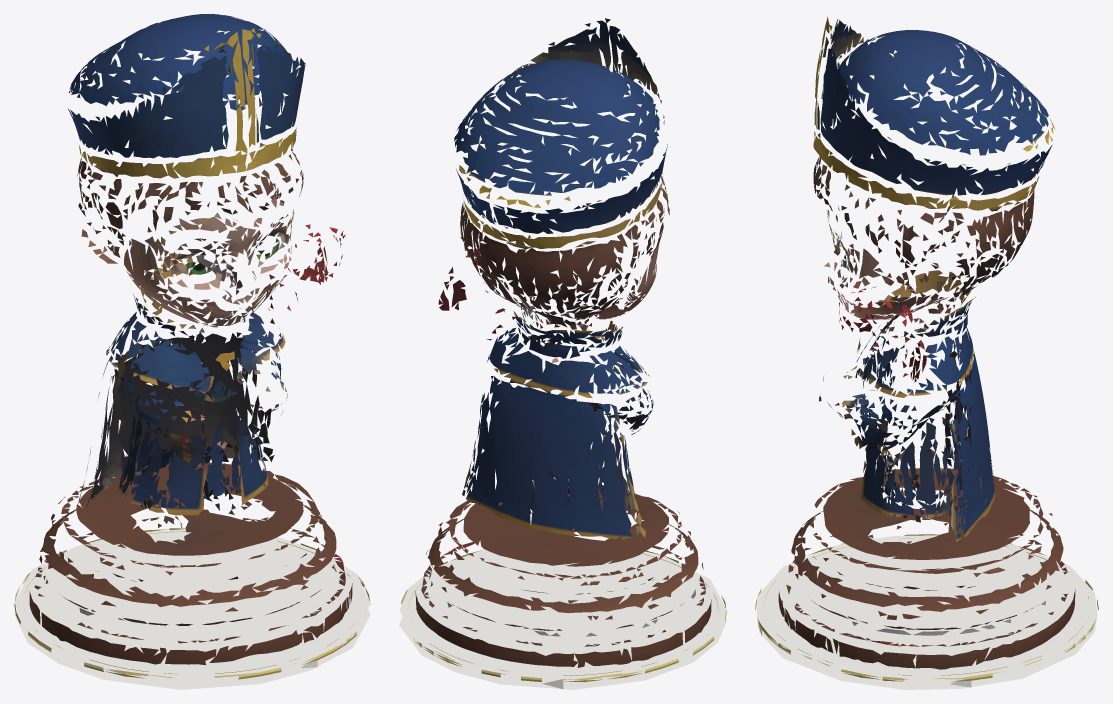
Rendered from bishop-ale-1-10k.glb.
The picture shows the model from 3 angles, left to right: view 1: azimuth 30°, elevation 25°; view 2: azimuth 150°, elevation 25°; view 3: azimuth 270°, elevation 25°; orthographic projection. The views are drawn at different scales.
Visible parts, largest first — view 1: tmpwt99ud__.ply, FactionPedestal, FactionTrimRing; view 2: tmpwt99ud__.ply, FactionPedestal, FactionTrimRing; view 3: tmpwt99ud__.ply, FactionPedestal, FactionTrimRing.
Boxes of the visible parts, <box> form: tmpwt99ud__.ply: <box>29,14,352,664</box>; FactionPedestal: <box>14,529,370,689</box>; FactionTrimRing: <box>14,528,370,679</box>; tmpwt99ud__.ply: <box>415,18,711,667</box>; FactionPedestal: <box>399,549,726,689</box>; FactionTrimRing: <box>401,550,726,682</box>; tmpwt99ud__.ply: <box>778,16,1075,669</box>; FactionPedestal: <box>756,535,1097,689</box>; FactionTrimRing: <box>755,534,1098,681</box>.
Bounding box in the file's own units: 0.7409 × 1.44 × 0.744.
3 materials, 1 textured.
